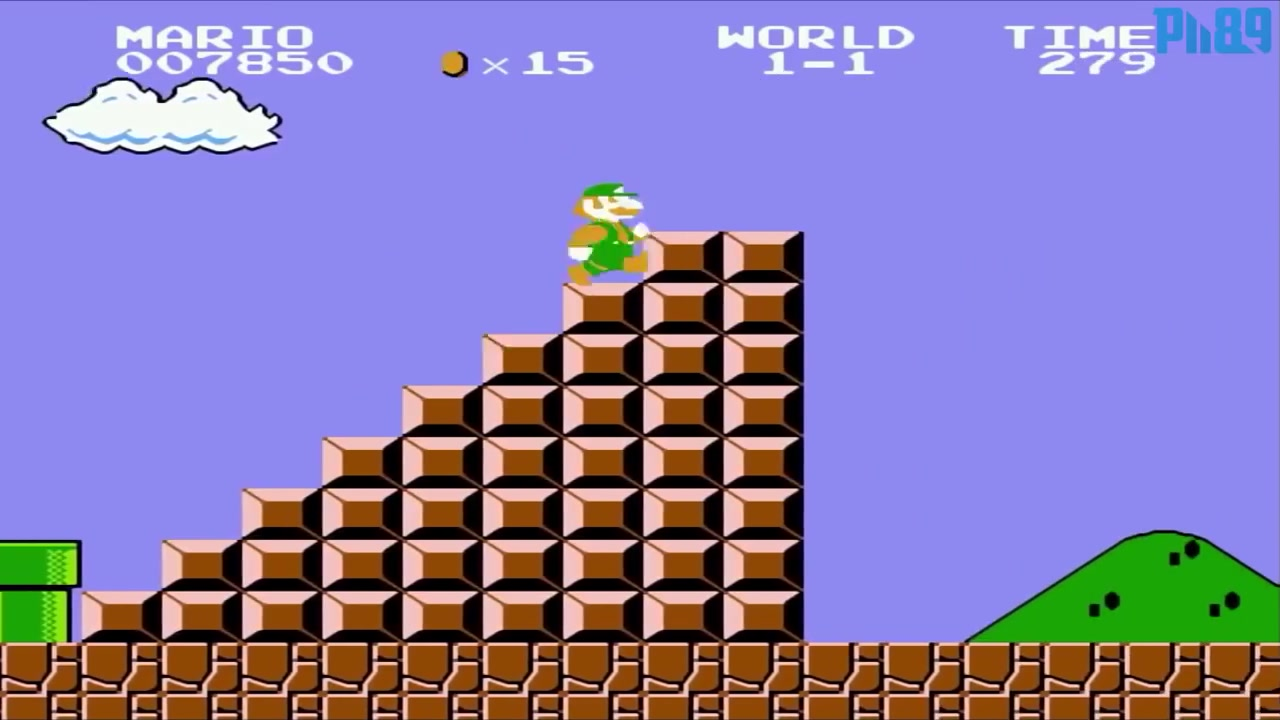mario: (562, 180, 668, 290)
